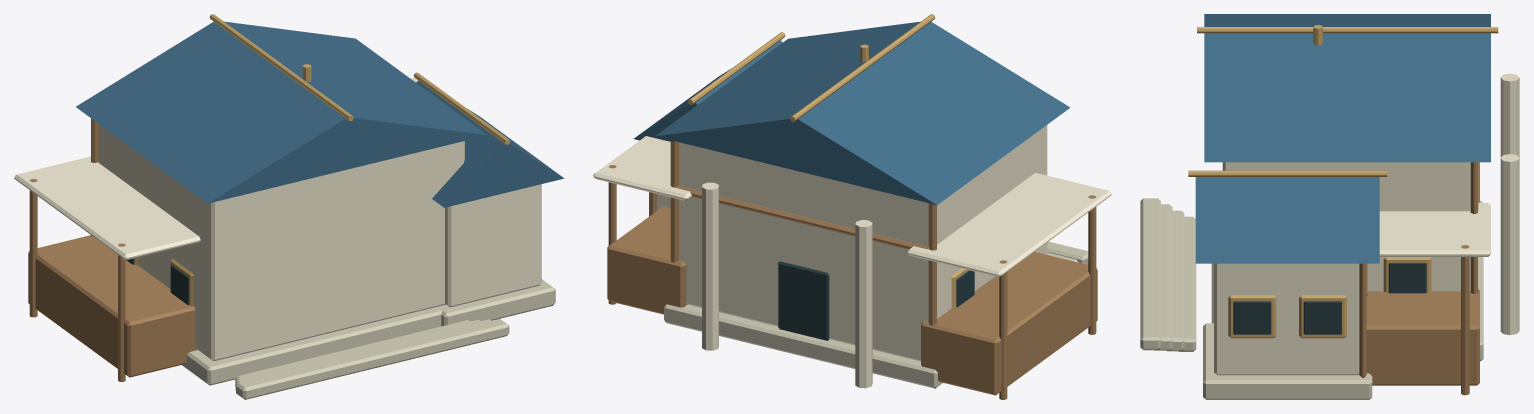
File: level_26.glb
3 views of the same model, side by side, from view 1: azimuth 30°, elevation 25°; view 2: azimuth 150°, elevation 25°; view 3: azimuth 270°, elevation 25° (orthographic). The views are drawn at different scales.
Parts seen in each view (by area): view 1: market — level 26; view 2: market — level 26; view 3: market — level 26.
Boxes of the visible parts, left/top/right/bottom form: market — level 26: left=14, top=14, right=564, bottom=399; market — level 26: left=593, top=14, right=1111, bottom=399; market — level 26: left=1140, top=14, right=1519, bottom=399.
Bounding box in the file's own units: 7.08 × 4.06 × 5.16.
